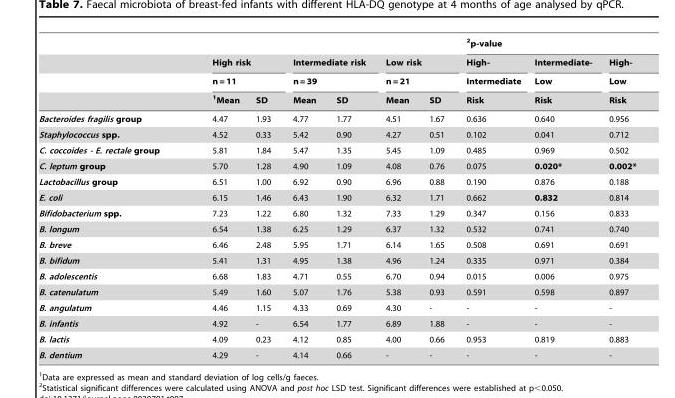table: (37, 37, 635, 359)
table column: (37, 37, 185, 359), (454, 37, 527, 359), (527, 37, 599, 359), (185, 37, 246, 359), (325, 37, 375, 359), (281, 37, 325, 359), (375, 37, 418, 359), (418, 37, 454, 359), (599, 37, 635, 359), (246, 37, 281, 359)
table column header: (37, 37, 635, 109)
table row: (37, 89, 635, 109), (37, 52, 635, 71), (37, 71, 635, 89), (37, 109, 635, 126), (37, 126, 635, 142), (37, 142, 635, 158), (37, 173, 635, 189), (37, 189, 635, 205), (37, 205, 635, 221), (37, 236, 635, 252), (37, 252, 635, 268), (37, 268, 635, 284), (37, 299, 635, 315), (37, 315, 635, 331), (37, 331, 635, 347), (37, 37, 635, 52), (37, 158, 635, 173), (37, 221, 635, 236), (37, 284, 635, 299), (37, 347, 635, 359)
table spanning cell: (454, 52, 527, 109), (527, 52, 599, 109), (185, 52, 281, 89), (281, 52, 375, 89), (375, 52, 454, 89), (454, 37, 635, 52), (599, 52, 635, 109)
